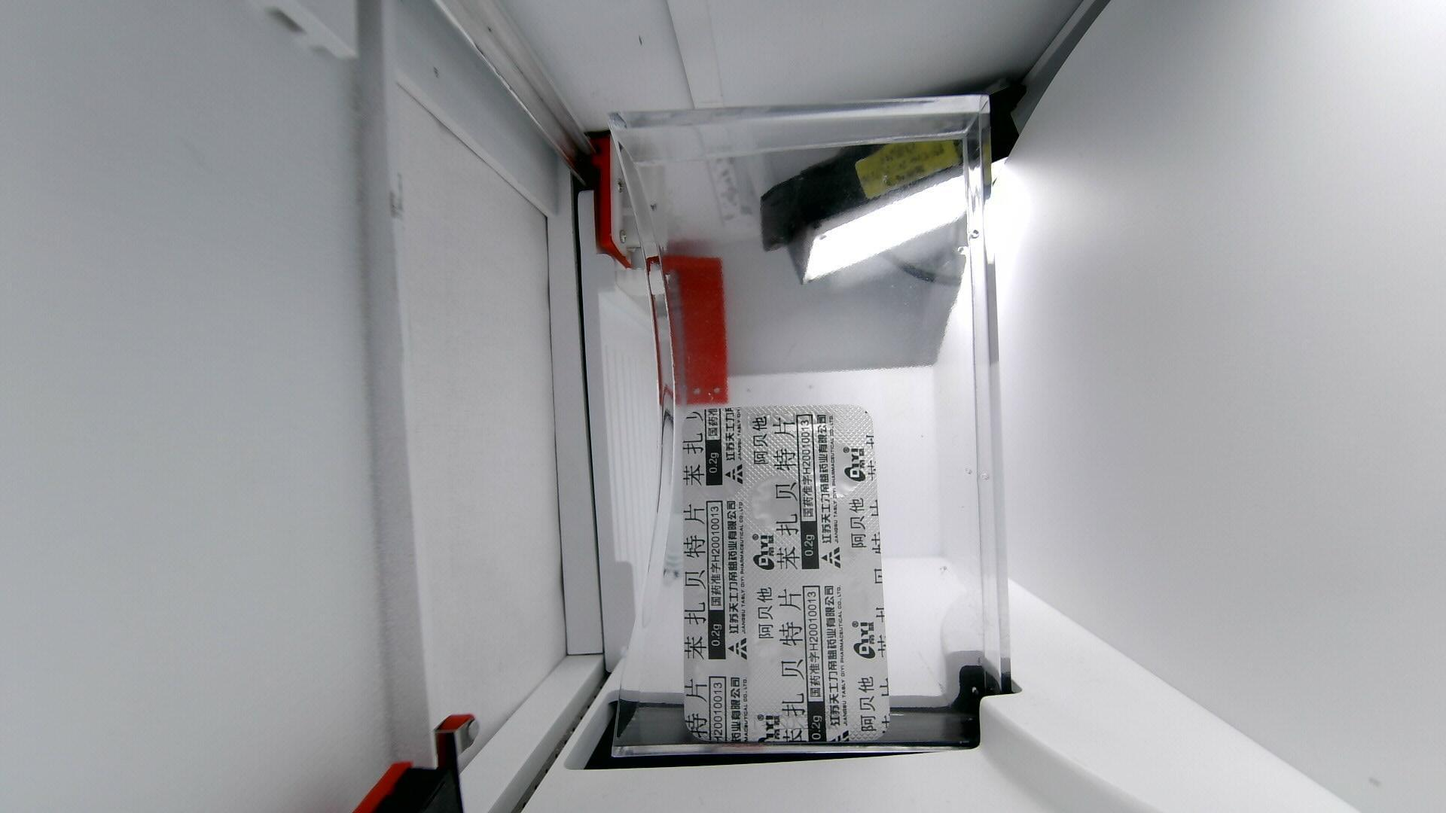Pill Back: (758, 623, 820, 680), (690, 599, 746, 660), (751, 482, 814, 536), (808, 443, 869, 494), (825, 584, 880, 640), (693, 509, 751, 560), (697, 669, 754, 719), (818, 512, 871, 565), (692, 448, 744, 499), (829, 650, 879, 702)
